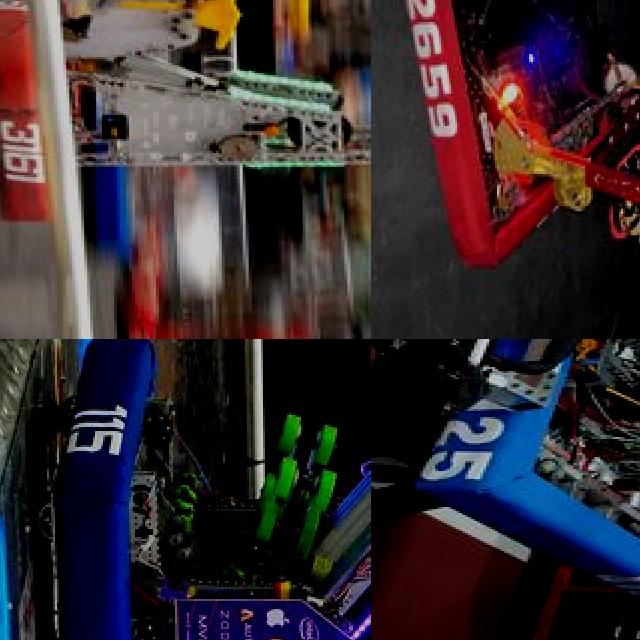FRC-Robots: (24, 339, 371, 640), (0, 0, 371, 249), (405, 0, 640, 313), (428, 339, 640, 640)
